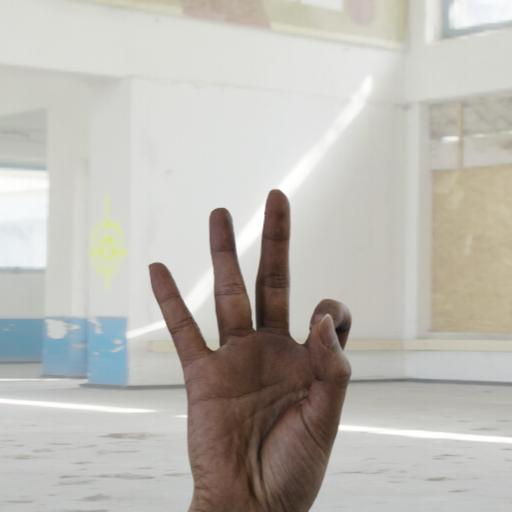F: (137, 181, 373, 512)
